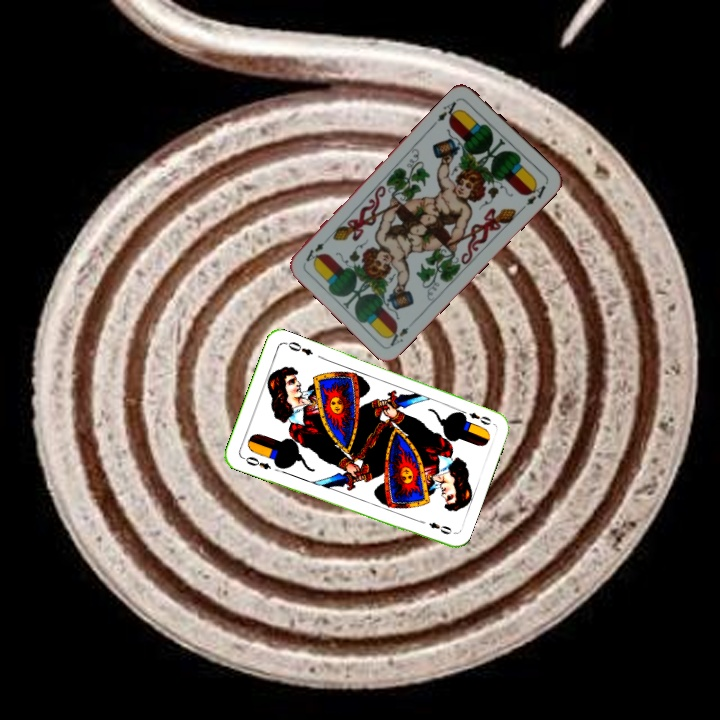EA: (384, 316, 418, 349), (433, 95, 463, 124)
EO: (456, 406, 494, 428), (238, 453, 274, 472)
